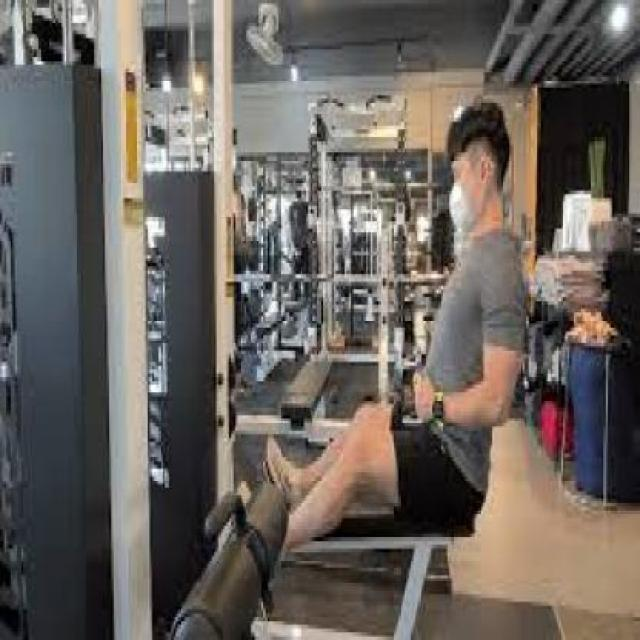Seated Cable Rows: (0, 38, 526, 640)
